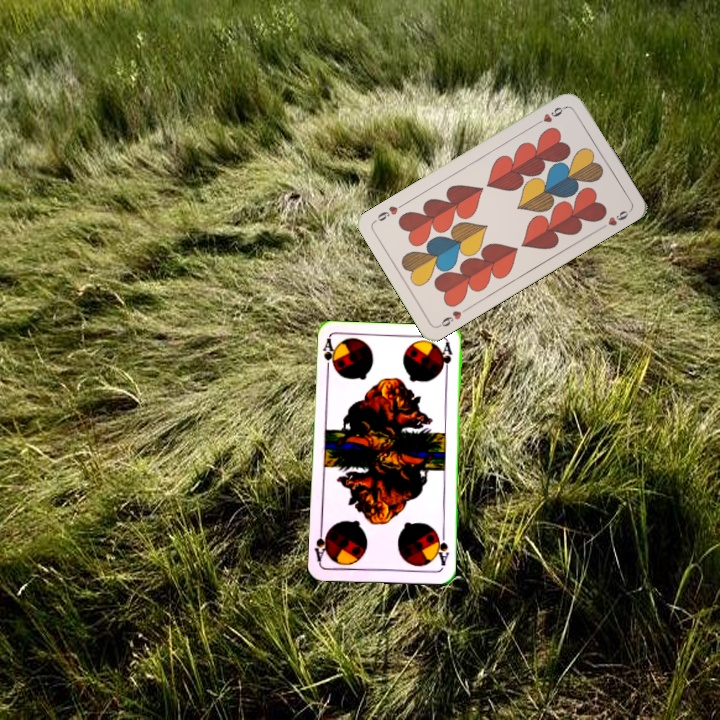H9: (434, 304, 471, 330), (532, 102, 569, 128)
SA: (319, 335, 338, 376), (432, 528, 451, 568)
